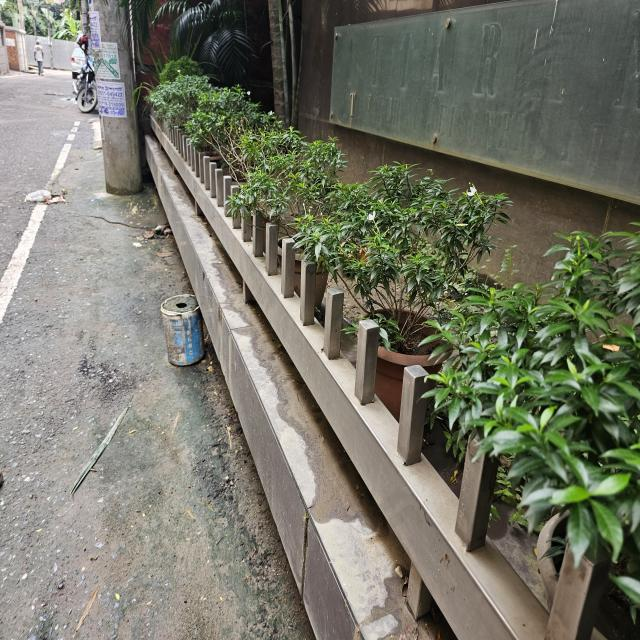artificial_container: (354, 302, 456, 434)
